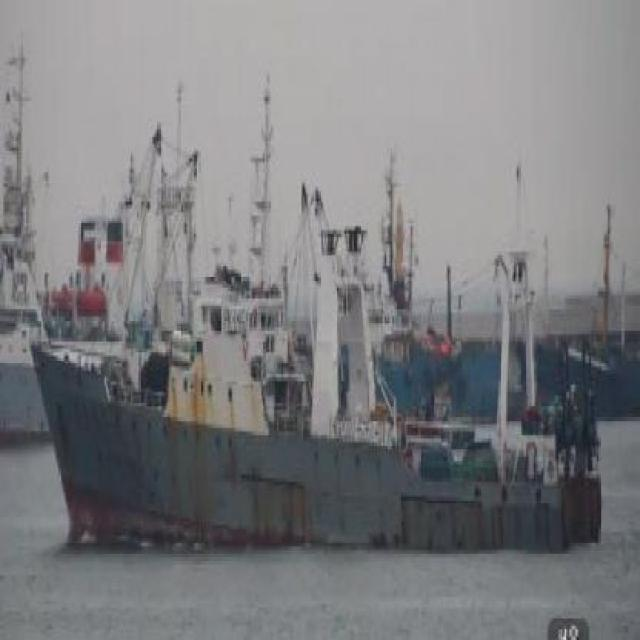fish-b: (19, 70, 611, 613)
